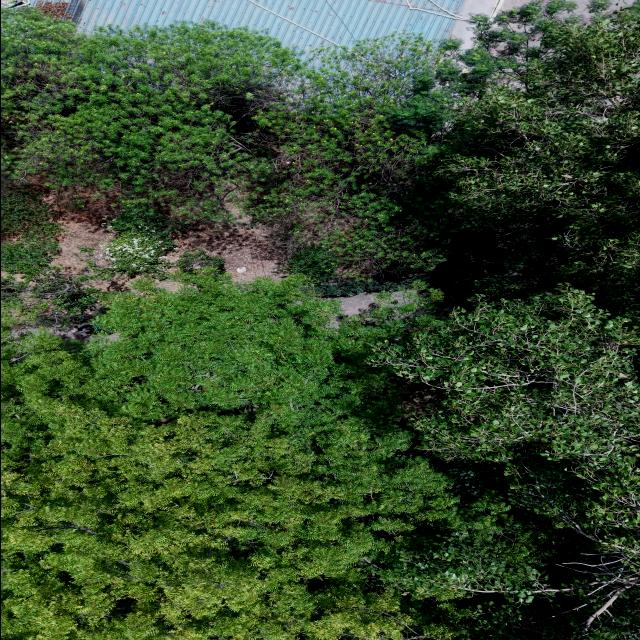DRY_AREA: (156, 203, 289, 291), (158, 204, 288, 291), (156, 205, 283, 291), (44, 187, 142, 292), (165, 203, 286, 282), (165, 206, 286, 282), (167, 207, 283, 282), (44, 187, 117, 274), (51, 219, 116, 274), (459, 0, 527, 17), (335, 292, 381, 317), (337, 293, 377, 316), (37, 0, 70, 19)
ROOFTOP_BUILDING: (64, 0, 464, 51)
VEGETATION_TREE: (1, 2, 639, 639), (3, 273, 638, 639), (1, 2, 639, 315), (3, 275, 457, 639), (3, 12, 443, 277), (371, 286, 639, 639), (415, 2, 639, 315), (376, 288, 638, 471), (1, 182, 58, 278)
